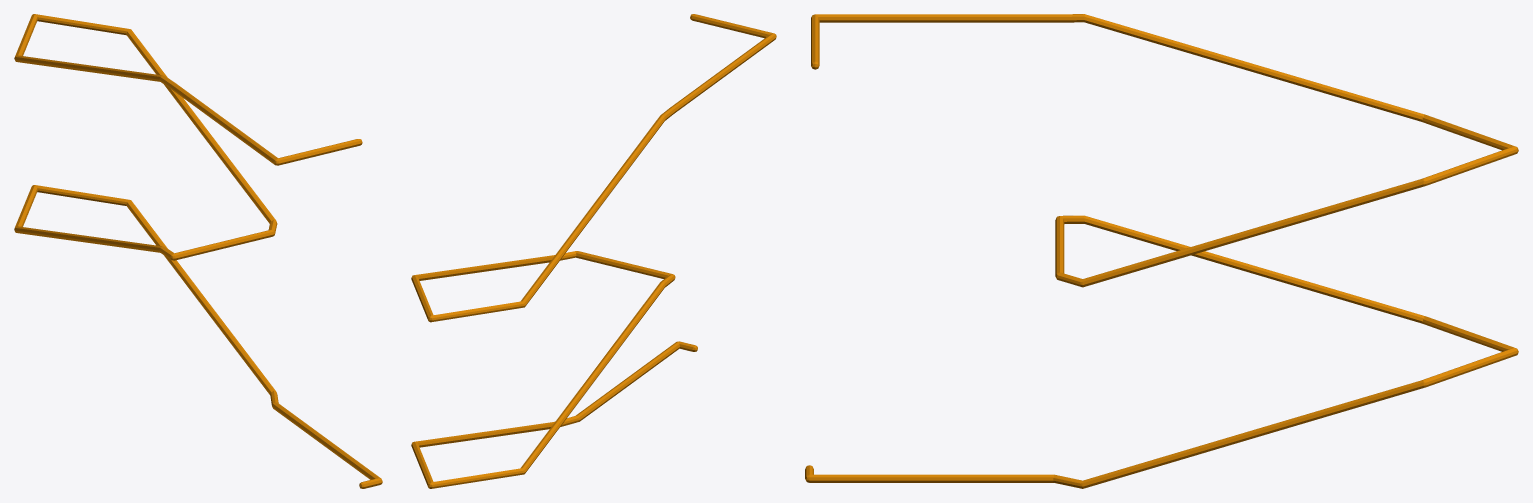
3 views of the same model, side by side, from view 1: azimuth 30°, elevation 25°; view 2: azimuth 150°, elevation 25°; view 3: azimuth 270°, elevation 25° (orthographic). The views are drawn at different scales.
Size of the model in its own units: 360 by 1020 by 1605.
